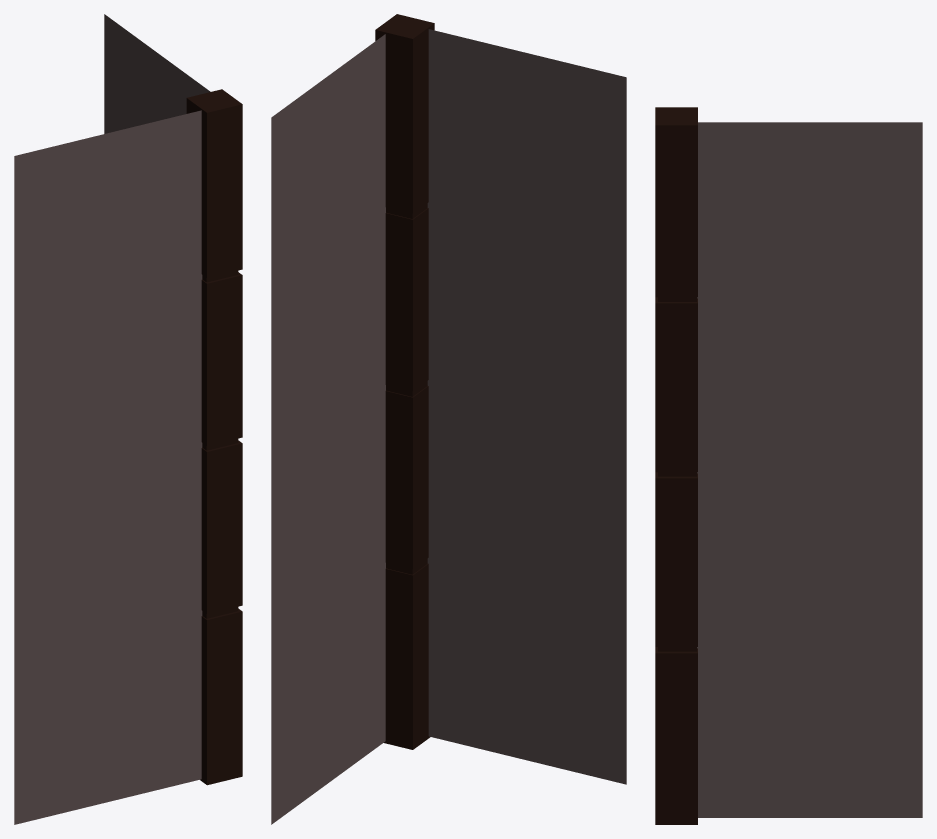
The model's file is Pared_Esquina_01.fbx.
The picture shows the model from 3 angles, left to right: view 1: azimuth 30°, elevation 25°; view 2: azimuth 150°, elevation 25°; view 3: azimuth 270°, elevation 25°; orthographic projection. The views are drawn at different scales.
Visible parts, largest first — view 1: polySurface20, Esquina_Pared_02; view 2: polySurface20, Esquina_Pared_02; view 3: polySurface20, Esquina_Pared_02.
Part boxes in pixels (x1=…): polySurface20: x1=14, y1=14, x2=210, y2=824; Esquina_Pared_02: x1=186, y1=89, x2=242, y2=785; polySurface20: x1=271, y1=29, x2=626, y2=824; Esquina_Pared_02: x1=375, y1=14, x2=434, y2=749; polySurface20: x1=697, y1=122, x2=922, y2=817; Esquina_Pared_02: x1=655, y1=107, x2=697, y2=824.
Size of the model in its own units: 6.27 by 18.09 by 6.27.
